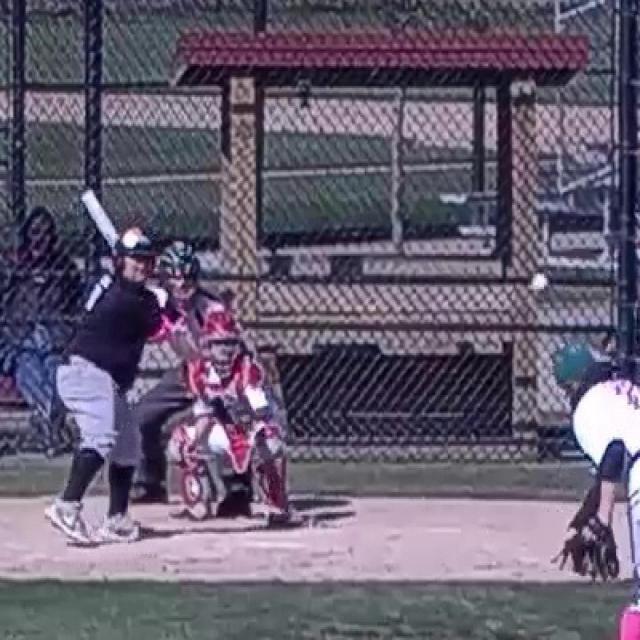baseball: (532, 274, 547, 290)
